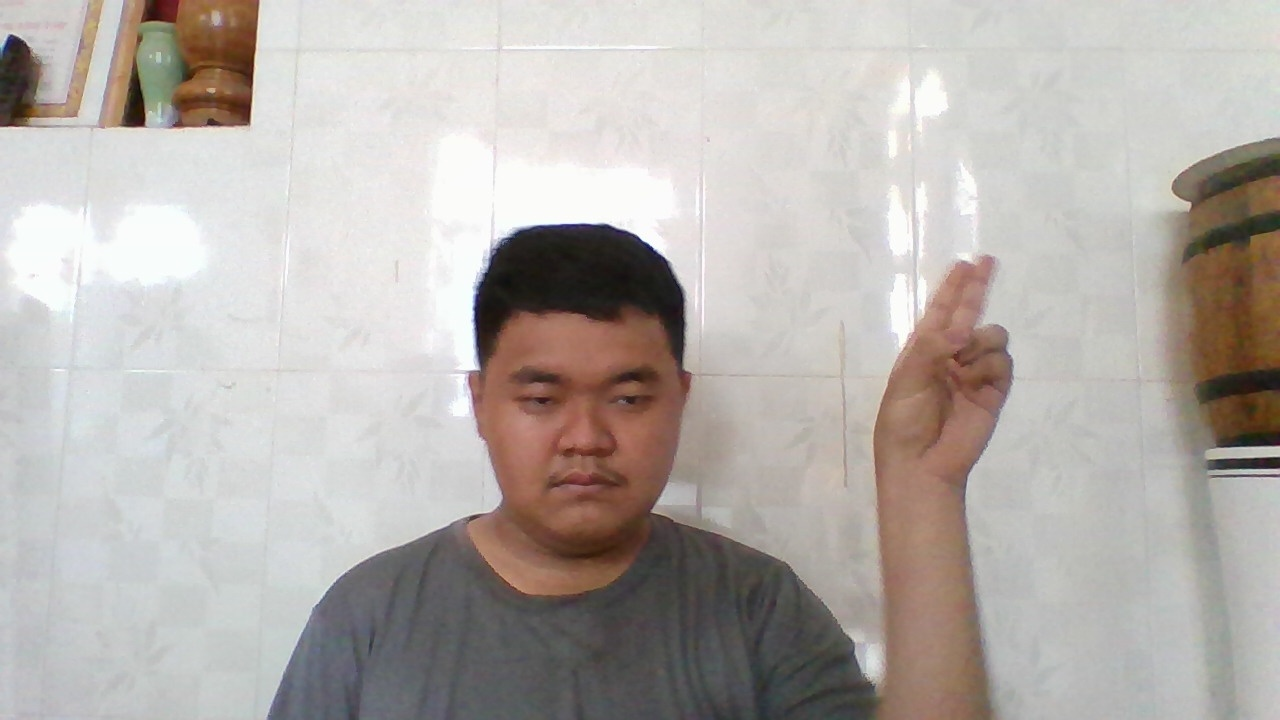U: (878, 245, 1019, 482)
